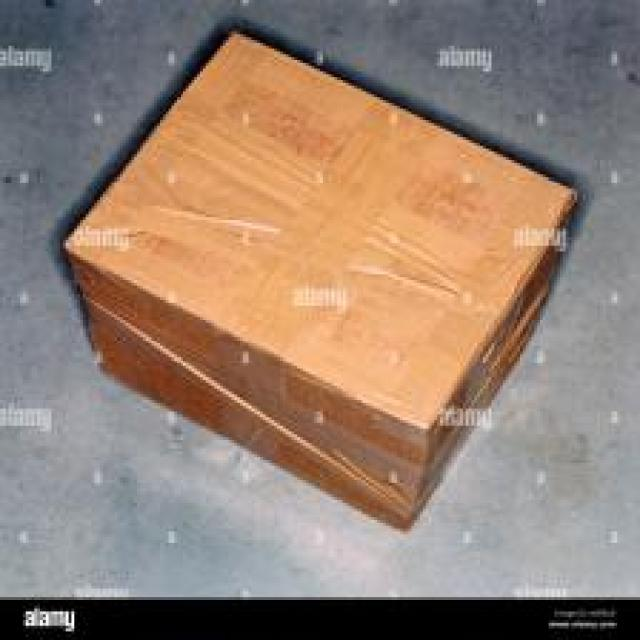box: (64, 32, 578, 532)
